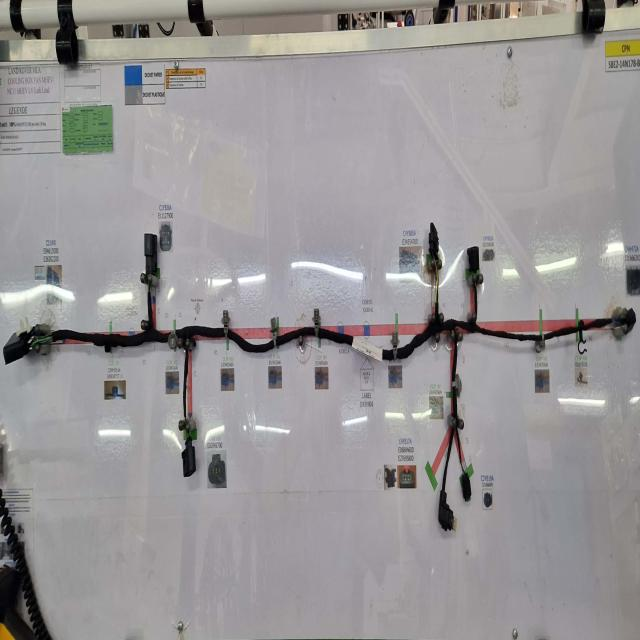Clip: (167, 317, 182, 350), (175, 288, 189, 321), (536, 305, 545, 354), (220, 309, 229, 352), (313, 308, 321, 351), (392, 315, 399, 364), (269, 318, 277, 351), (460, 354, 468, 380), (109, 311, 116, 321)
Connector: (2, 330, 34, 367), (437, 488, 456, 531), (143, 230, 157, 280), (182, 437, 197, 480), (461, 470, 472, 506), (430, 217, 440, 256), (468, 242, 479, 272), (628, 309, 637, 336)
Gape: (28, 326, 51, 351), (433, 251, 440, 305), (608, 313, 627, 331), (181, 416, 192, 441), (148, 270, 152, 294), (473, 276, 477, 294)
Info: (352, 337, 383, 363)
MHEV_N11_Cable: (50, 280, 614, 505)
